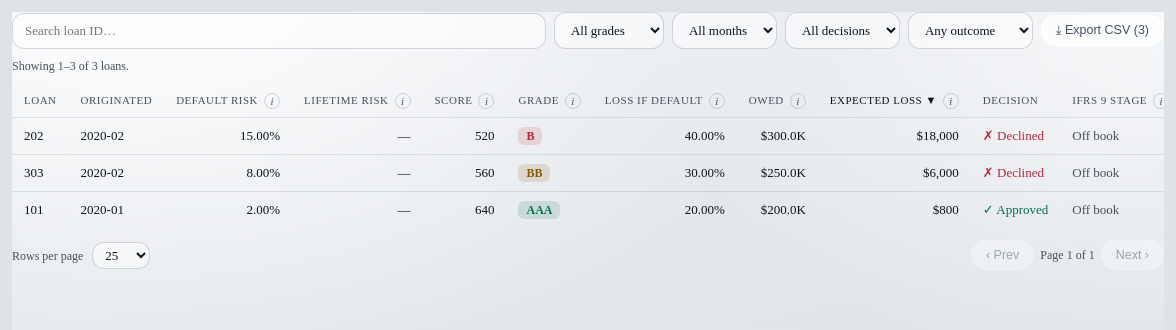
LoanTable › says so when nothing matches
In the search field named "Search by loan ID": (279, 30) top-left (12, 12), bottom-right (546, 48), type "999"
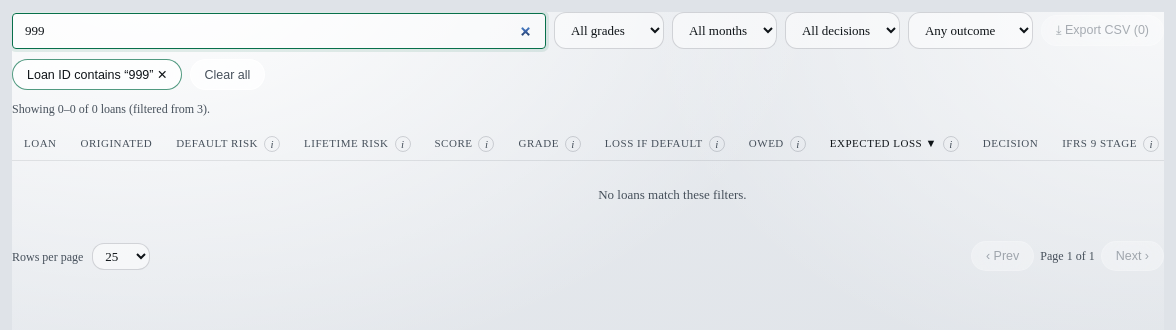
Expected: the text "No loans match these filters." is shown, top-left (12, 161), bottom-right (1164, 229)
